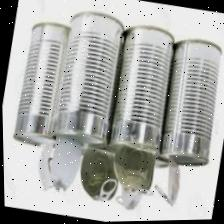metal: (51, 18, 130, 160), (102, 29, 182, 166), (3, 19, 78, 162), (152, 30, 224, 173)
